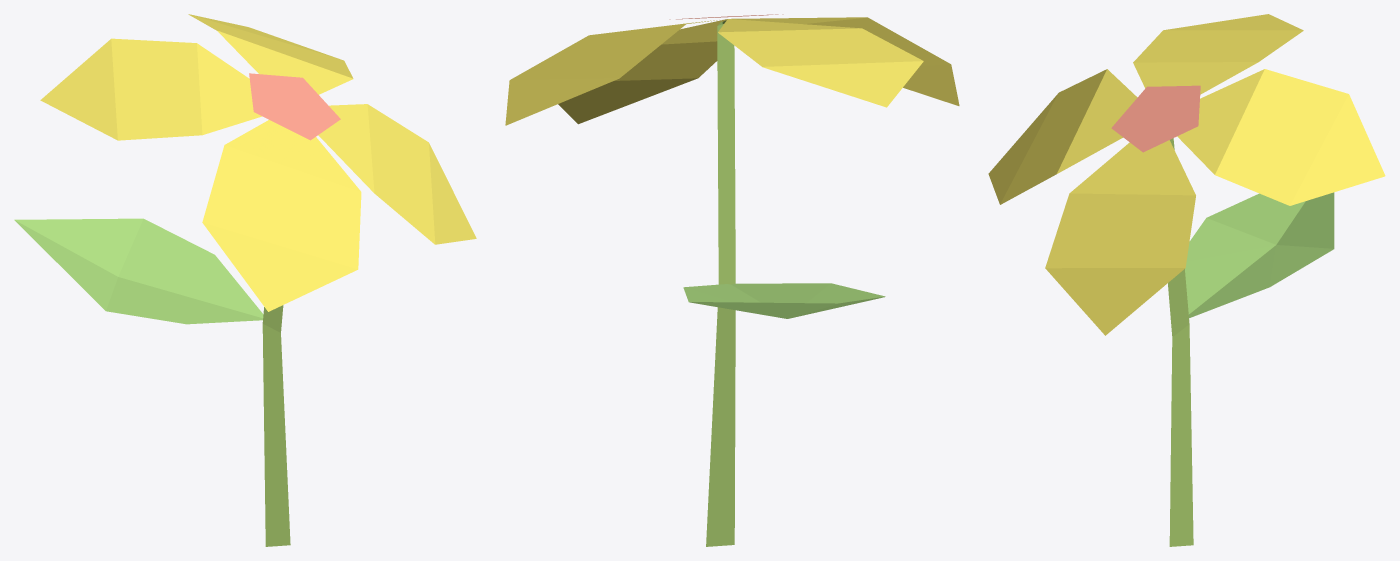
File: Flower_d_TwoS_06.fbx
3 views of the same model, side by side, from view 1: azimuth 30°, elevation 25°; view 2: azimuth 150°, elevation 25°; view 3: azimuth 270°, elevation 25° (orthographic). The views are drawn at different scales.
Parts seen in each view (by area): view 1: Flower_d_TwoS_06; view 2: Flower_d_TwoS_06; view 3: Flower_d_TwoS_06.
Part boxes in pixels (x1,y1,x2,y2): Flower_d_TwoS_06: (14, 14, 476, 546); Flower_d_TwoS_06: (505, 14, 959, 546); Flower_d_TwoS_06: (988, 14, 1385, 546).
Bounding box in the file's own units: 0.2195 × 0.2889 × 0.2228.
